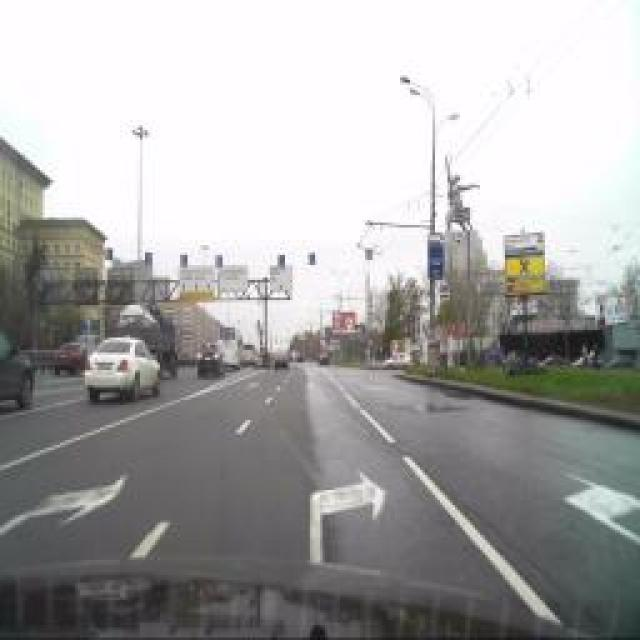sign: (439, 272, 451, 292)
